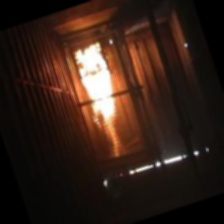fire: (68, 39, 126, 133)
